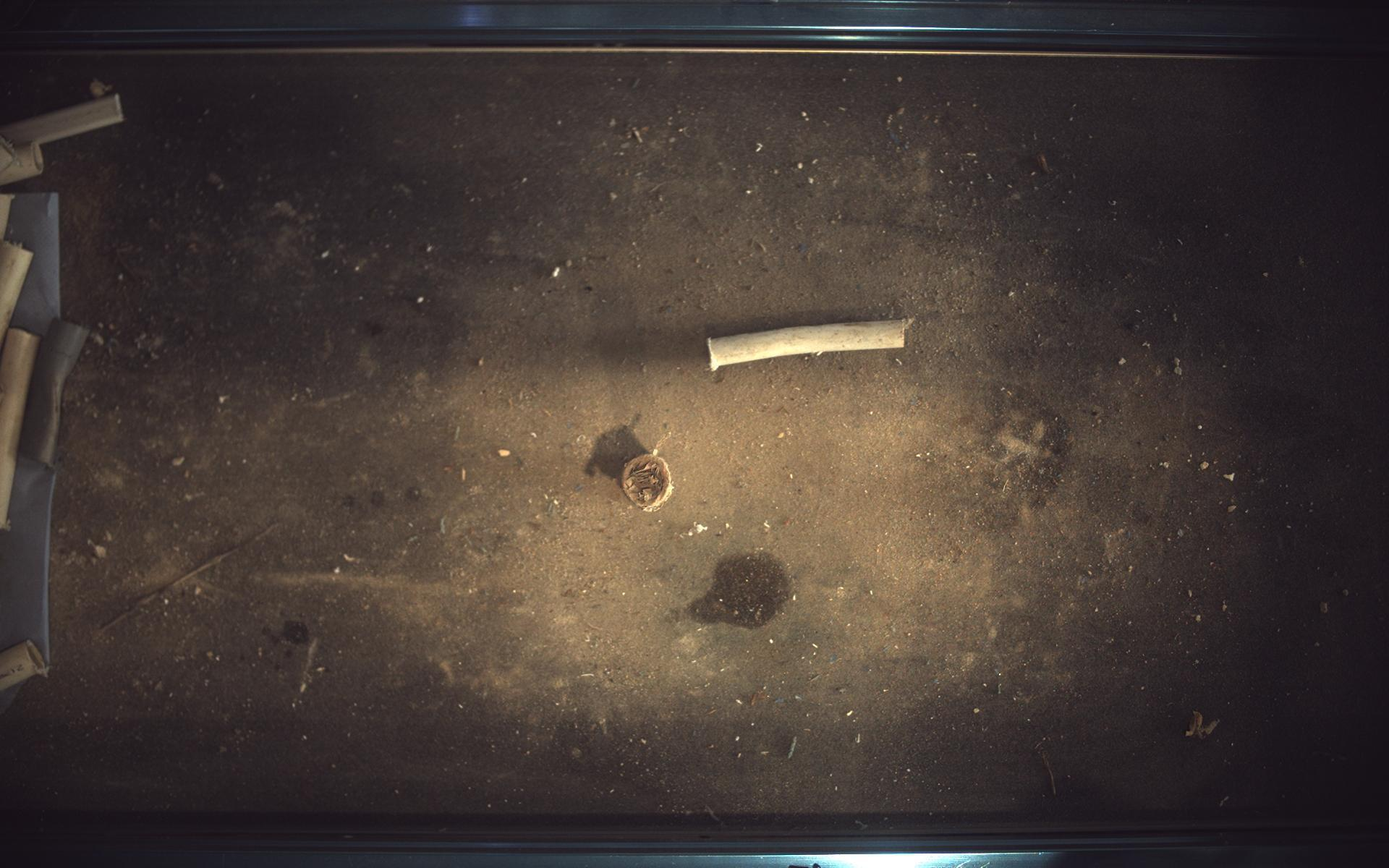pipes: (710, 319, 911, 370), (622, 454, 674, 512)
